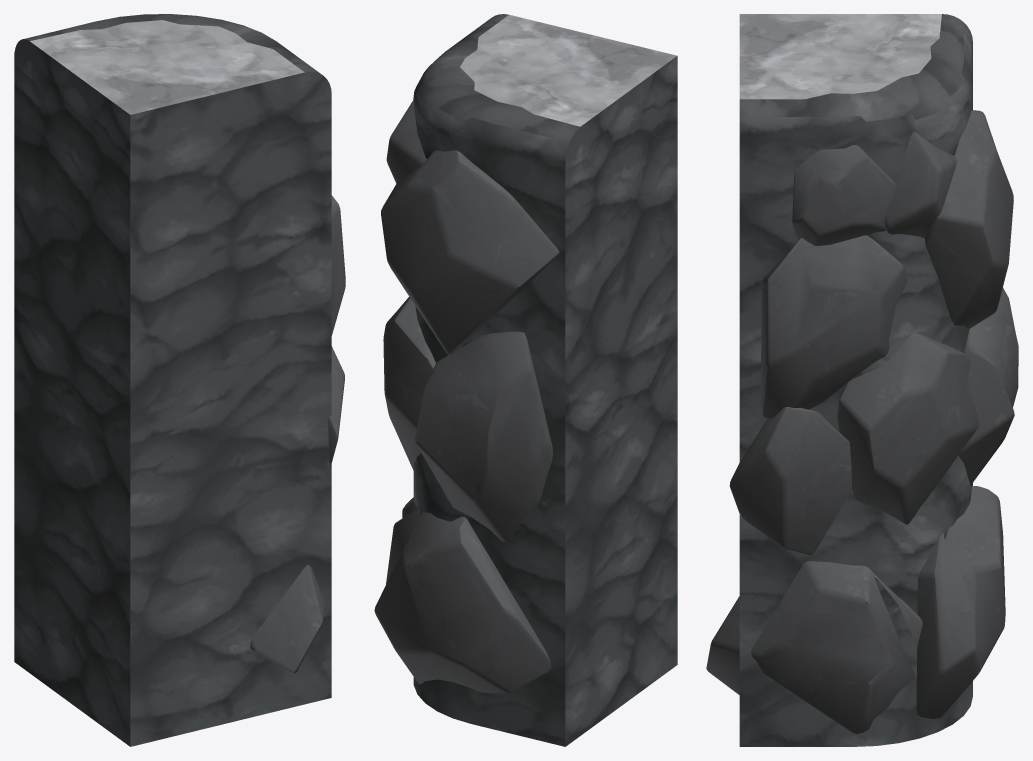
File: StoneEdge.fbx
The picture shows the model from 3 angles, left to right: view 1: azimuth 30°, elevation 25°; view 2: azimuth 150°, elevation 25°; view 3: azimuth 270°, elevation 25°; orthographic projection. The views are drawn at different scales.
Visible parts, largest first — view 1: StoneEdge, Cube.104, Cube.106; view 2: StoneEdge, Cube.103, Cube.102, Cube.101, Cube.100, Cube.107; view 3: StoneEdge, Cube.104, Cube.100, Cube.102, Cube.106, Cube.103, Cube.105, Cube.101, Cube.107.
Part boxes in pixels (x1,y1,x2,y2): StoneEdge: (14, 14, 345, 746); Cube.104: (250, 565, 325, 673); Cube.106: (328, 346, 344, 465); StoneEdge: (413, 14, 677, 746); Cube.103: (381, 150, 559, 354); Cube.102: (374, 508, 550, 693); Cube.101: (415, 331, 552, 542); Cube.100: (383, 297, 435, 470); Cube.107: (386, 99, 426, 183); StoneEdge: (739, 14, 972, 746); Cube.104: (706, 561, 922, 733); Cube.100: (837, 333, 978, 524); Cube.102: (916, 486, 1005, 718); Cube.106: (729, 407, 851, 554); Cube.103: (925, 110, 1013, 328); Cube.105: (792, 145, 896, 245); Cube.101: (958, 288, 1018, 485); Cube.107: (884, 131, 956, 238).
Bounding box in the file's own units: 945 × 2400 × 1071.
3 materials, 3 textured.
